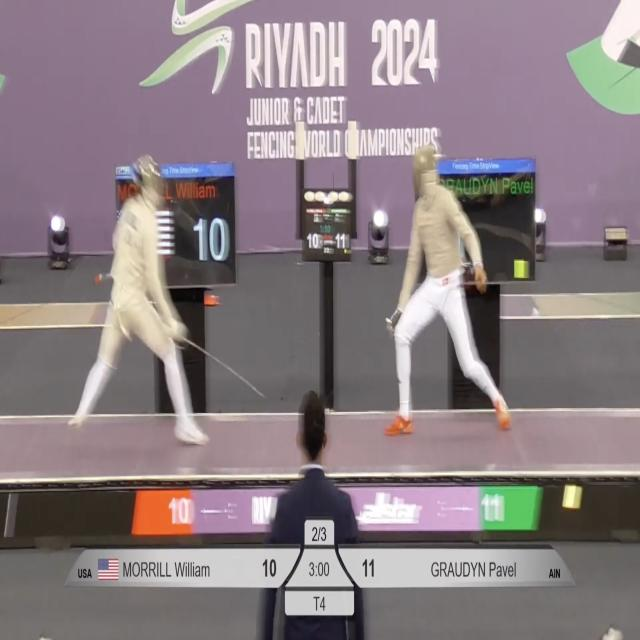fencer: (69, 154, 214, 458), (384, 145, 514, 451)
overlayLeft: (64, 545, 242, 588)
overlayRight: (389, 546, 575, 584)
scoreLeft: (247, 545, 304, 586)
scoreRight: (336, 547, 385, 589)
